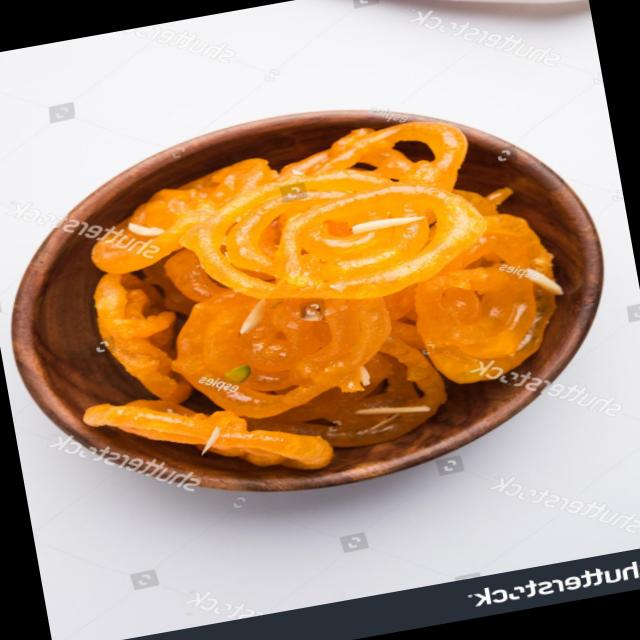jalebi: (47, 86, 569, 504)
